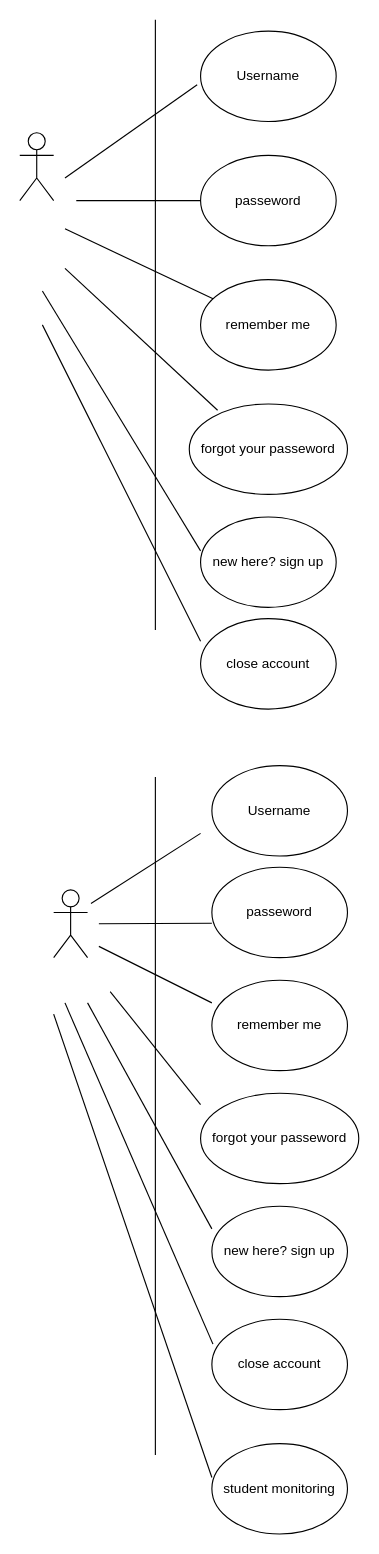
Image size: 379x1554. Some labels were removed from this diagram. Each missing label, with the centre of its shape:
Elève: the point at 36,166
professeur: the point at 70,923
